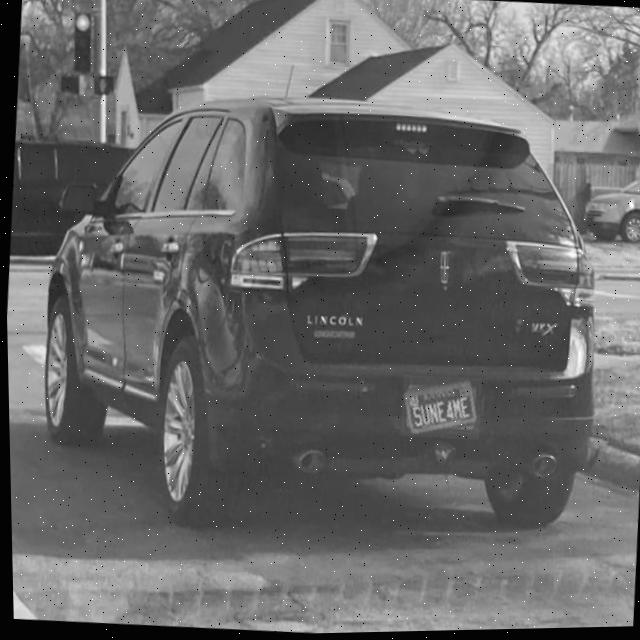LicensePlate: (401, 381, 477, 438)
